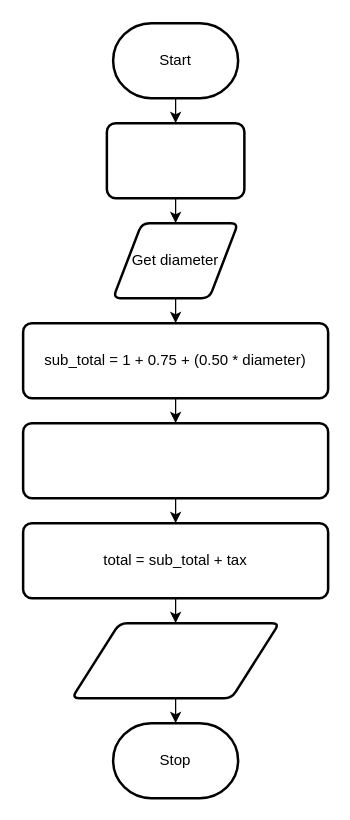
Image size: 350x820. Some labels were removed from this diagram. Each missing label, with the box of its shape:
Display total: (70, 621, 280, 699)
HST = 0.13: (105, 121, 245, 199)
tax = sub_total * HST: (21, 421, 329, 499)
